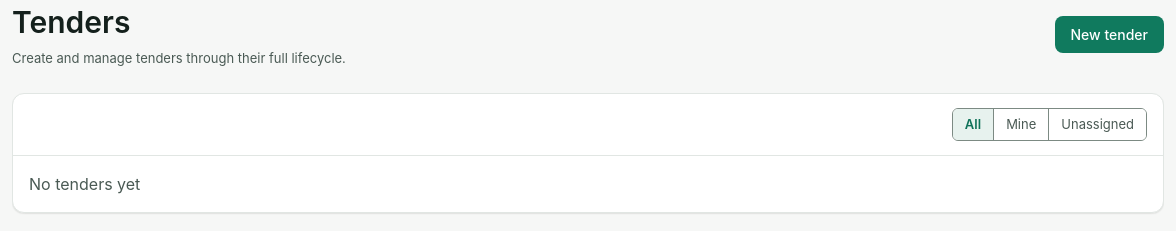
Scenario: RfqListPage › says which list is empty, not just that something is
Check: the text "No tenders yet" is shown, box x1=29 y1=174 x2=140 y2=194
Click the button "Mine": click(1021, 124) x1=993 y1=108 x2=1048 y2=140
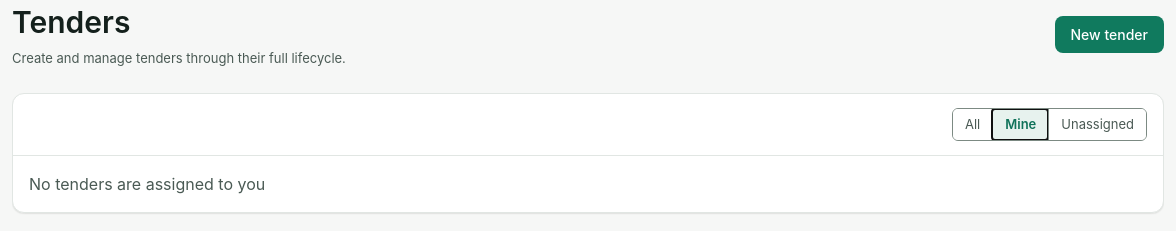
Check: the text "No tenders are assigned to you" is shown, box x1=29 y1=174 x2=265 y2=194
